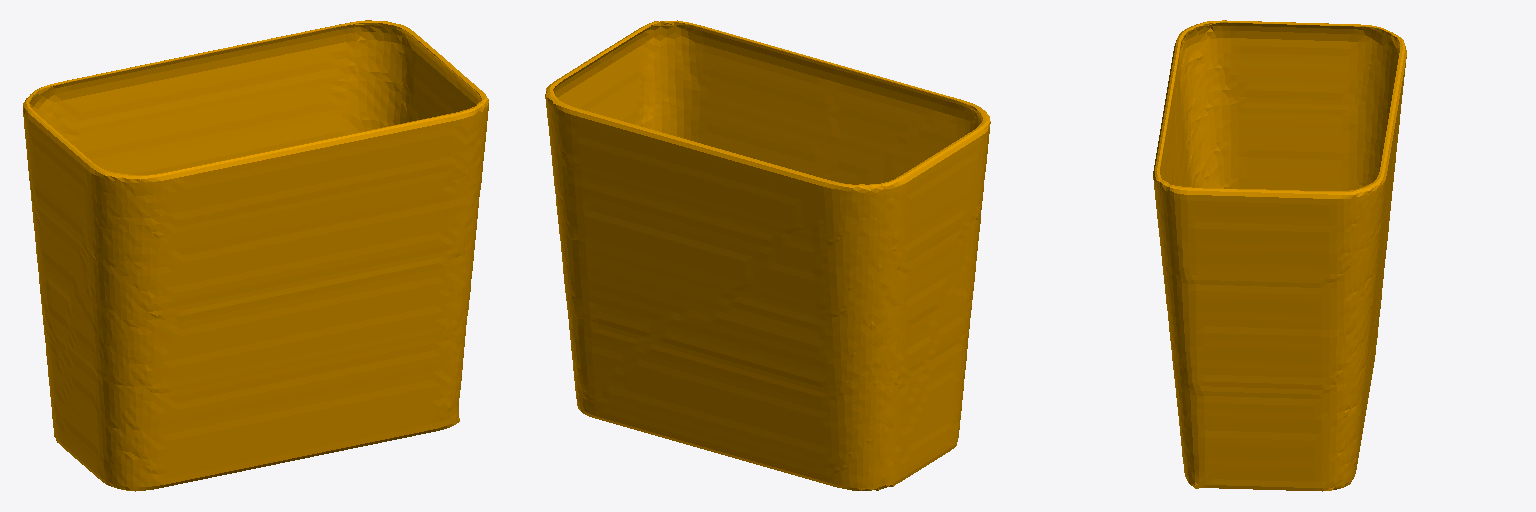
The robot description file, URDF, robot "02747177_93d5f21e94ac5fb68a606c63493ddb7c_object1":
<robot name="02747177_93d5f21e94ac5fb68a606c63493ddb7c_object1">
	<link name="_name">
		<visual>
			<origin xyz="-2.109894784156467 -2.4378115243150162 1.1426496200751342" rpy="0.0 0.0 0.0" />
			<geometry>
				<mesh filename="02747177_93d5f21e94ac5fb68a606c63493ddb7c_object1.obj" />
			</geometry>
		</visual>
		<collision>
			<origin rpy="0.0 0.0 0.0" xyz="-2.109894784156467 -2.4378115243150162 1.1426496200751342" />
			<geometry>
				<mesh filename="02747177_93d5f21e94ac5fb68a606c63493ddb7c_object1_vhacd.obj" />
			</geometry>
		</collision>
		<inertial>
			<origin rpy="0 0 0" xyz="0 0 0" />
			<mass value="1.0" />
			<inertia ixx="0.001" ixy="0.0" ixz="0.0" iyy="0.001" iyz="0.0" izz="0.001" />
		</inertial>
	</link>
</robot>

--- Facts derived from the render (not from the file) ---
3 views of the same robot in one strip: view 1: azimuth 30°, elevation 25°; view 2: azimuth 150°, elevation 25°; view 3: azimuth 270°, elevation 25° (orthographic).
Model 02747177_93d5f21e94ac5fb68a606c63493ddb7c_object1 with 1 links and 0 joints (none), rooted at _name, posed all joints at 0.
Visible links, largest first — view 1: _name; view 2: _name; view 3: _name.
Boxes of the visible links, x1,y1,x2,y2 form: _name: (23, 20, 488, 491); _name: (545, 20, 990, 490); _name: (1153, 20, 1406, 491).
Size in the robot's own frame: 0.4137 by 0.2523 by 0.3391 metres.
Meshes: 1 distinct files referenced, 1 mesh visuals loaded (1 OBJ).
